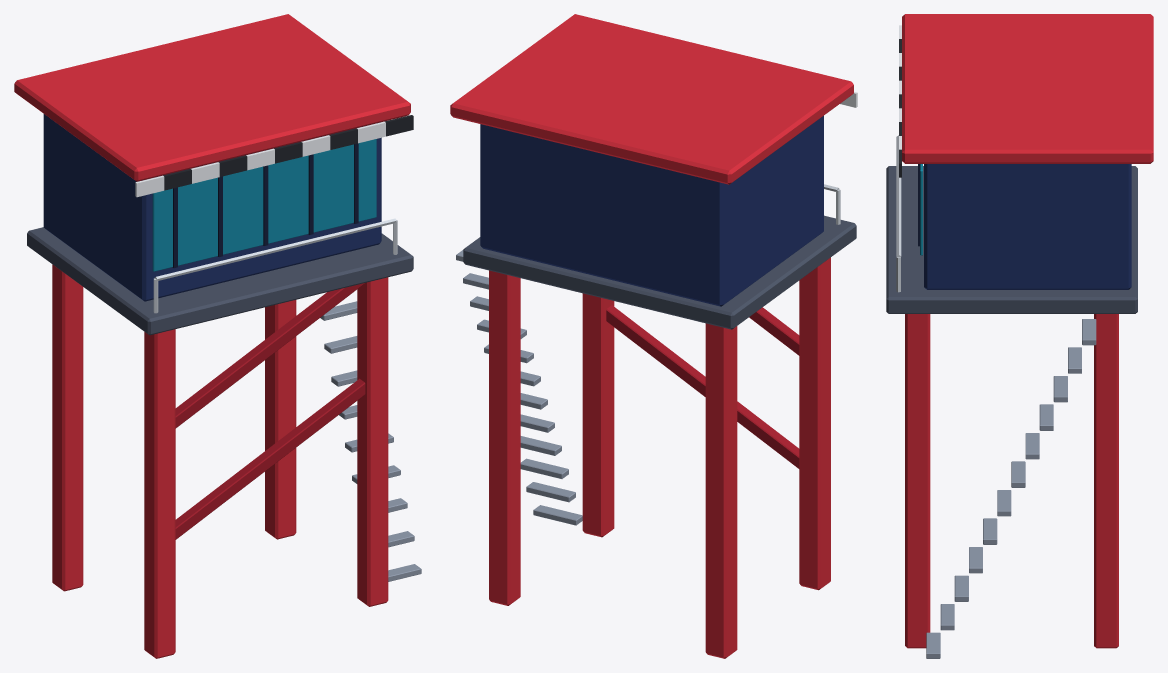
The model's file is VIPTower.fbx.
The picture shows the model from 3 angles, left to right: view 1: azimuth 30°, elevation 25°; view 2: azimuth 150°, elevation 25°; view 3: azimuth 270°, elevation 25°; orthographic projection. The views are drawn at different scales.
Parts seen in each view (by area): view 1: VIPTower; view 2: VIPTower; view 3: VIPTower.
Part boxes in pixels (x1,y1,x2,y2): VIPTower: (14, 14, 421, 658); VIPTower: (450, 14, 857, 658); VIPTower: (886, 14, 1153, 658).
Bounding box in the file's own units: 11.22 × 17.85 × 8.5.
Materials: 2 (1 with a texture image).
